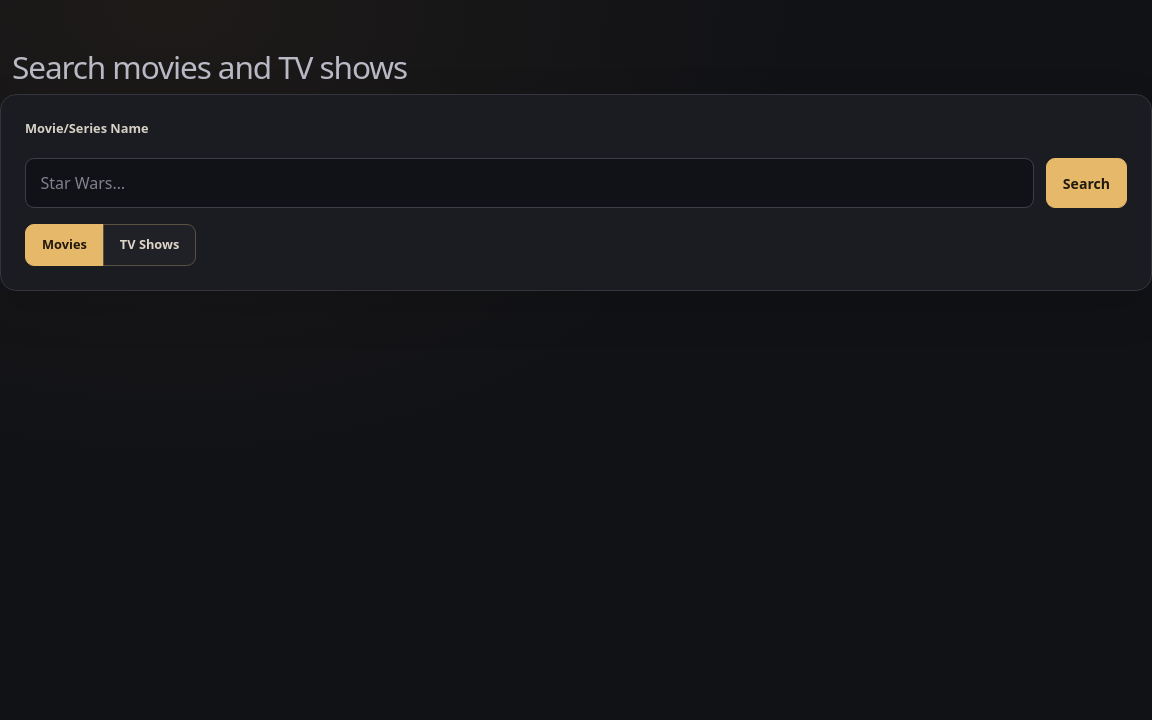
existing workflow regression repairs › ignores a late result from the old category
This screenshot has width=1152, height=720.
Type "Example" into the search field labelled "Movie/Series Name".
click(529, 183); type("Example")  # box [25,158,1034,208]
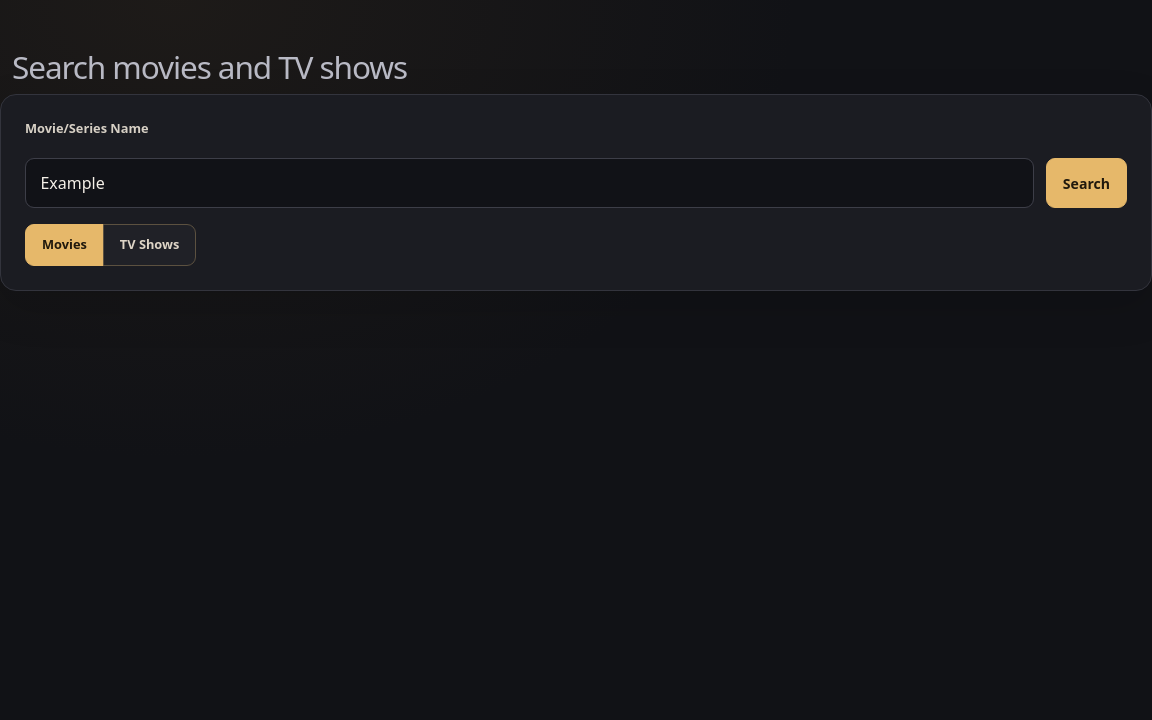
Click the button "Search".
click(1086, 183)  # box [1046,158,1127,208]
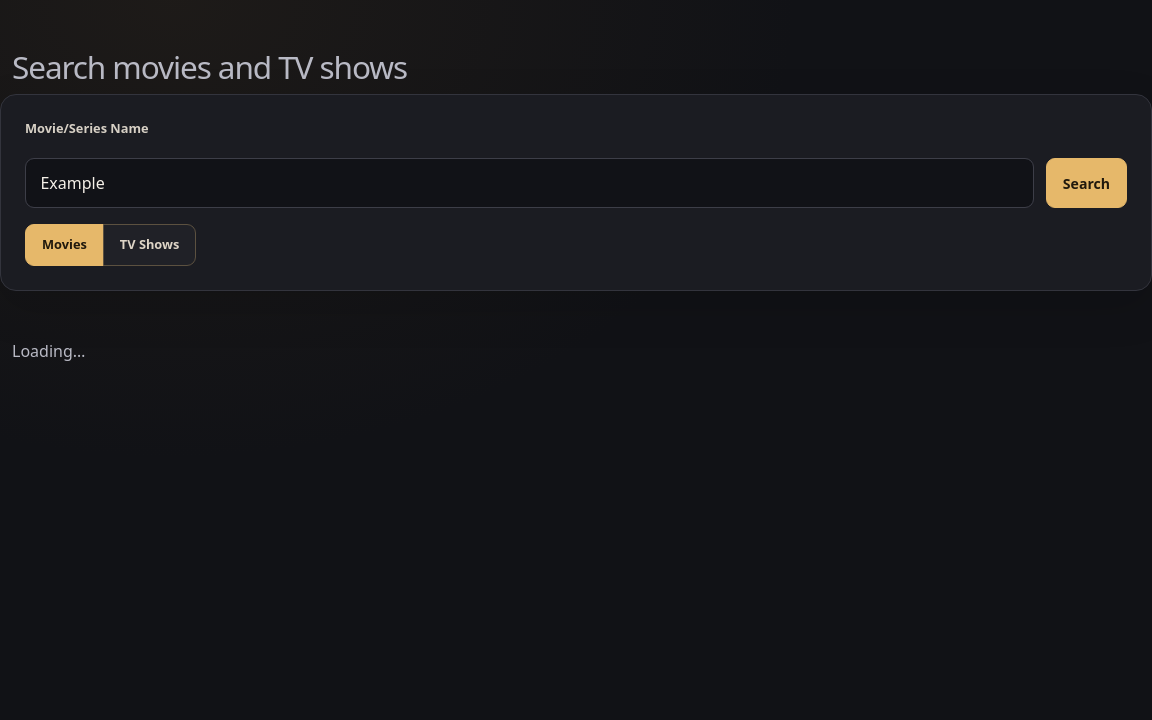
Click the button "TV Shows".
click(150, 245)  # box [103,224,196,266]
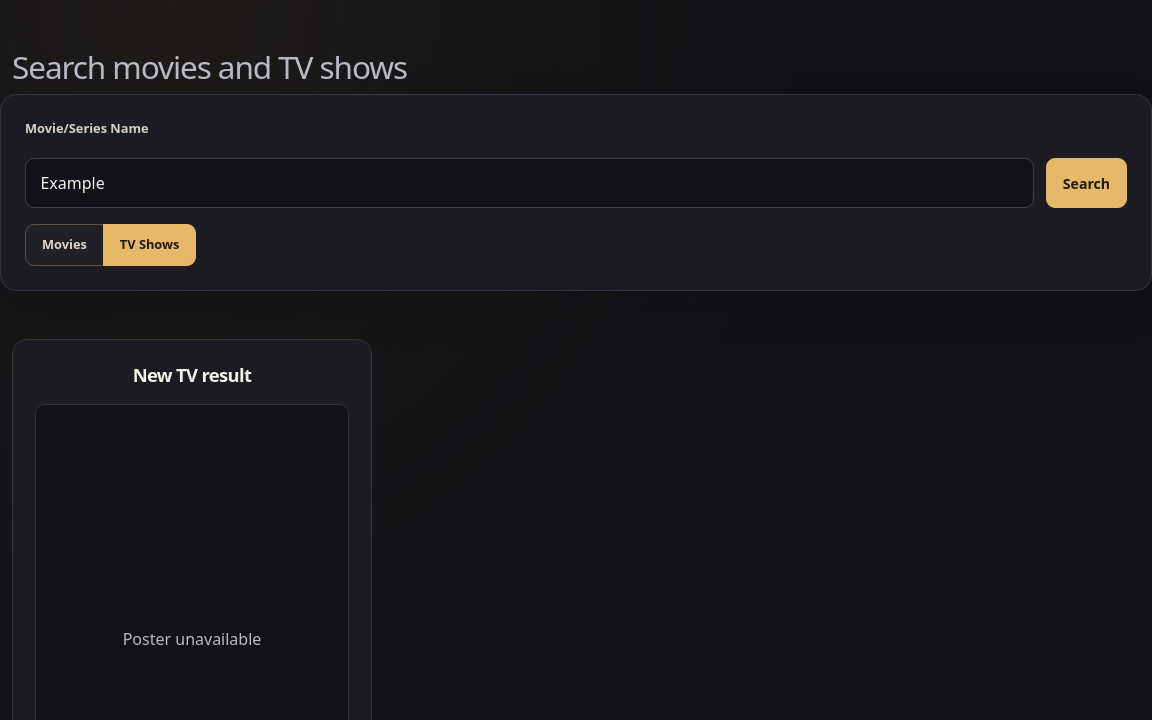
Check: the heading "New TV result" is shown, box [133,362,251,387]
